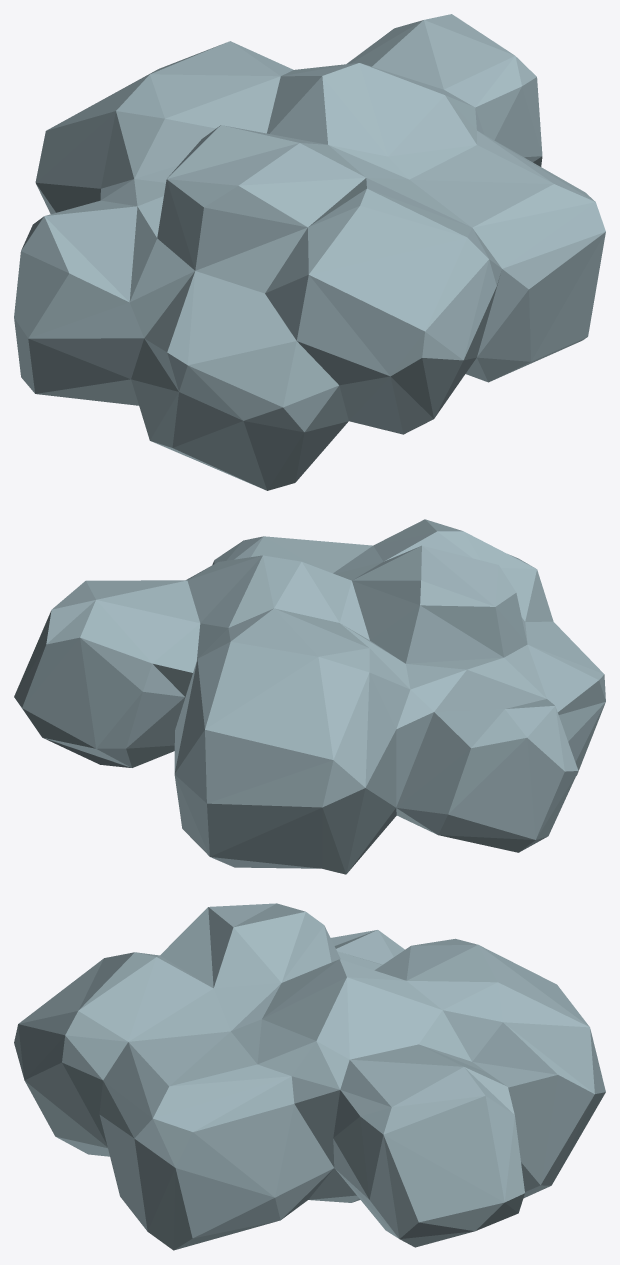
File: popcornCloud.fbx
3 views of the same model, one above another, from view 1: azimuth 30°, elevation 25°; view 2: azimuth 150°, elevation 25°; view 3: azimuth 270°, elevation 25° (orthographic). The views are drawn at different scales.
Parts seen in each view (by area): view 1: CLOUD3; view 2: CLOUD3; view 3: CLOUD3.
Part boxes in pixels (x1,y1,x2,y2): CLOUD3: (14, 14, 605, 490); CLOUD3: (14, 519, 605, 874); CLOUD3: (14, 903, 605, 1250).
Bounding box in the file's own units: 1.95 × 0.9964 × 1.94.
